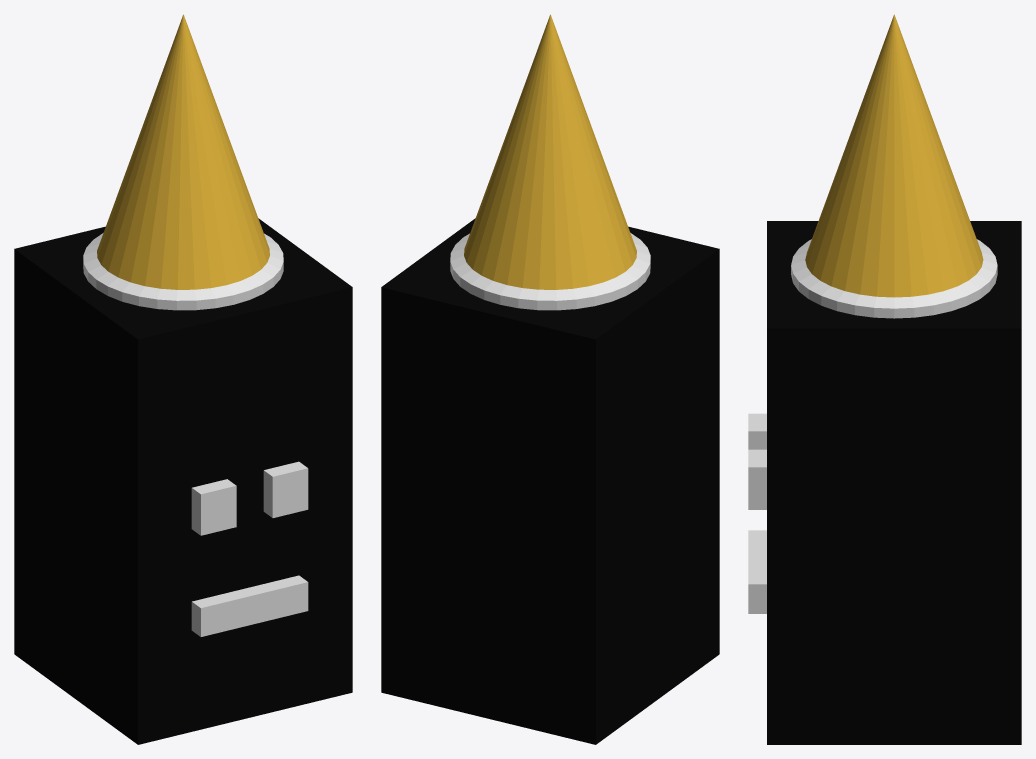
The model's file is Snipper.dae.
3 renders of one model, left to right at view 1: azimuth 30°, elevation 25°; view 2: azimuth 150°, elevation 25°; view 3: azimuth 270°, elevation 25°, orthographic. The views are drawn at different scales.
Visible parts, largest first — view 1: Cube, Cone; view 2: Cube, Cone; view 3: Cube, Cone.
Boxes of the visible parts, <box> form: Cube: <box>14,218,352,744</box>; Cone: <box>83,14,283,310</box>; Cube: <box>381,218,719,744</box>; Cone: <box>450,14,650,310</box>; Cube: <box>748,221,1021,744</box>; Cone: <box>791,14,997,318</box>.
Size of the model in its own units: 1 by 1.07 by 2.94.
